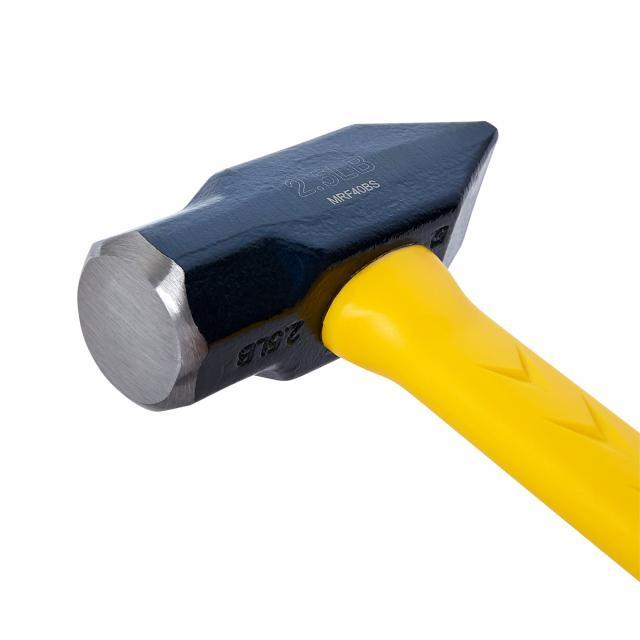hammer: (70, 112, 640, 596)
